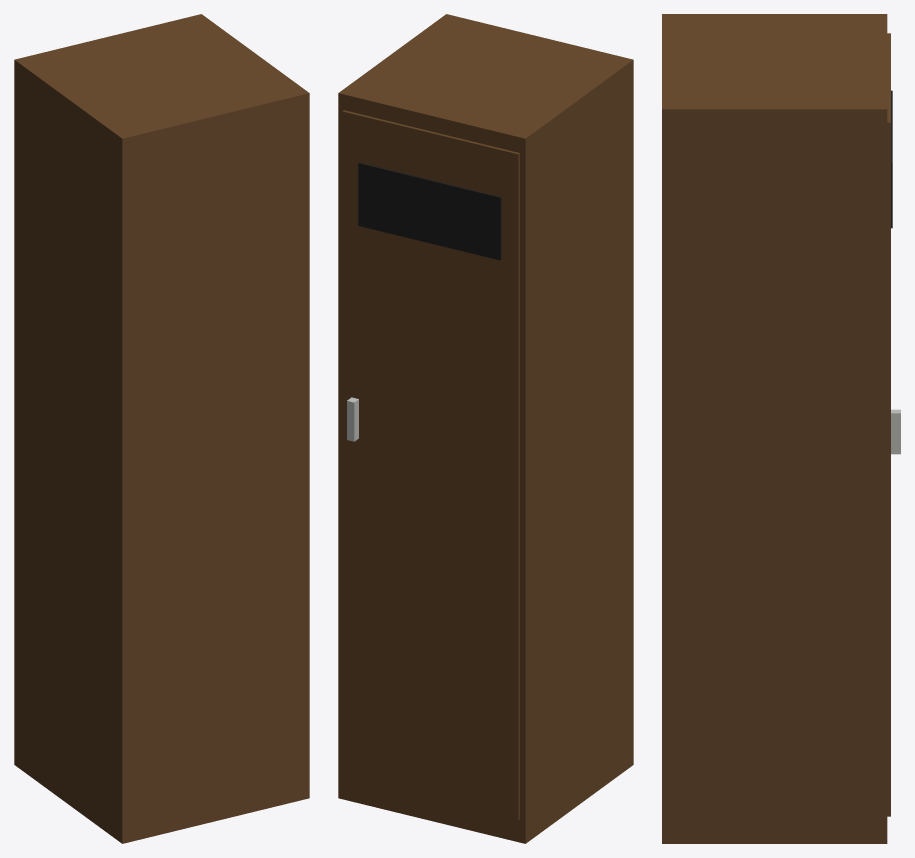
The model's file is parametric-locker-1st-pub.glb.
3 renders of one model, left to right at view 1: azimuth 30°, elevation 25°; view 2: azimuth 150°, elevation 25°; view 3: azimuth 270°, elevation 25°, orthographic. The views are drawn at different scales.
Visible parts, largest first — view 1: parametric-locker-1st-pub; view 2: parametric-locker-1st-pub; view 3: parametric-locker-1st-pub.
Boxes of the visible parts, x1,y1,x2,y2 form: parametric-locker-1st-pub: [14, 14, 309, 843]; parametric-locker-1st-pub: [338, 14, 633, 843]; parametric-locker-1st-pub: [662, 14, 900, 843].
Size of the model in its own units: 0.5 by 1.8 by 0.53.
